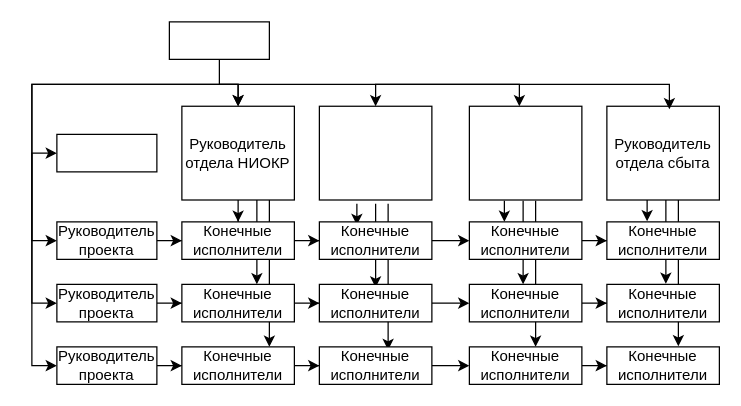
This 741x406 diagram has some shape labels left out. Each missing label, with the centre of its shape:
"Президент" goes at [218,40].
"Руководитель отдела опытного производства" goes at [375,152].
"Руководитель отдела серийного производства" goes at [525,152].
"Финансовый отдел" goes at [106,152].
